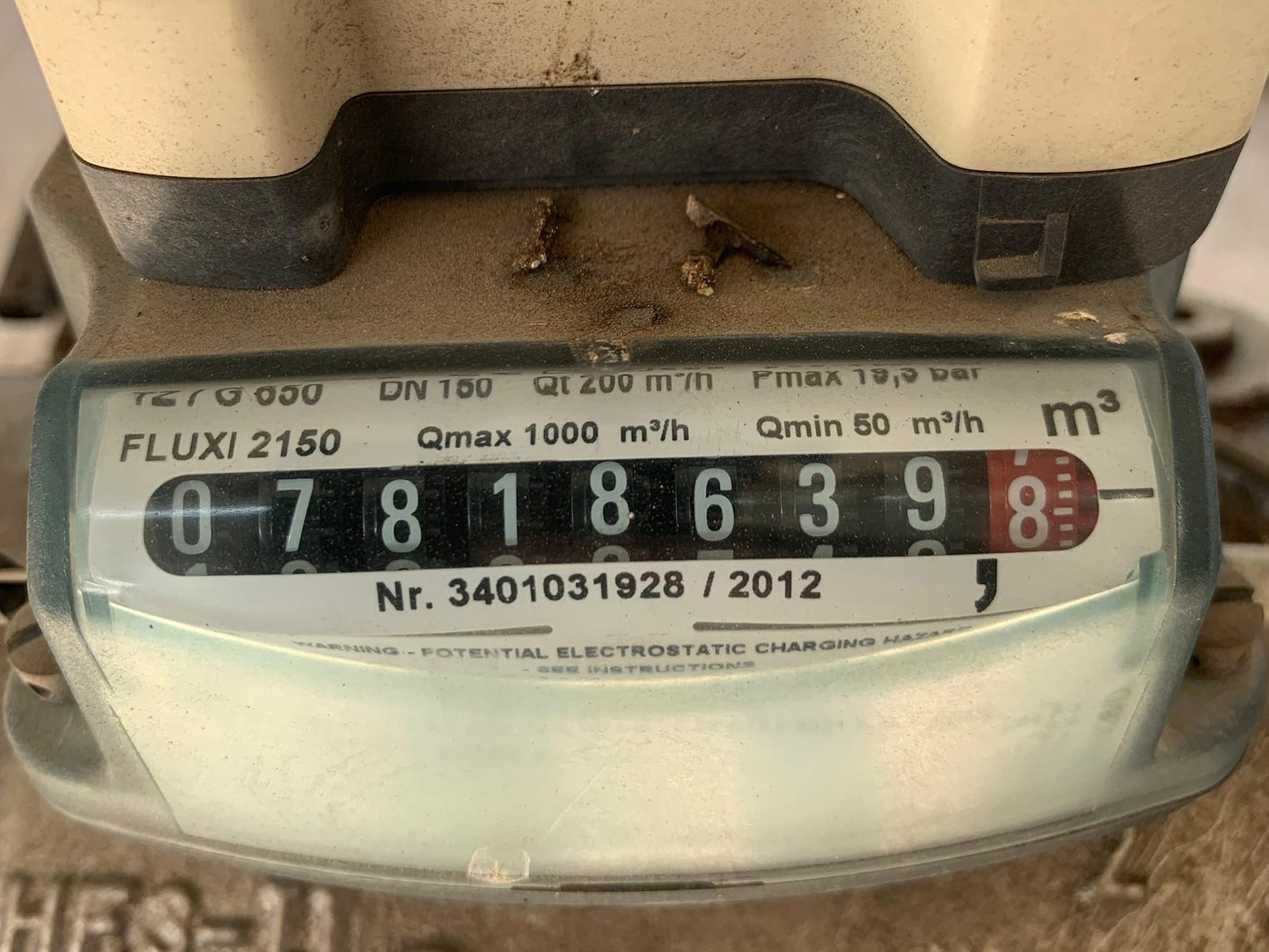analog_dial: (138, 437, 1157, 591)
